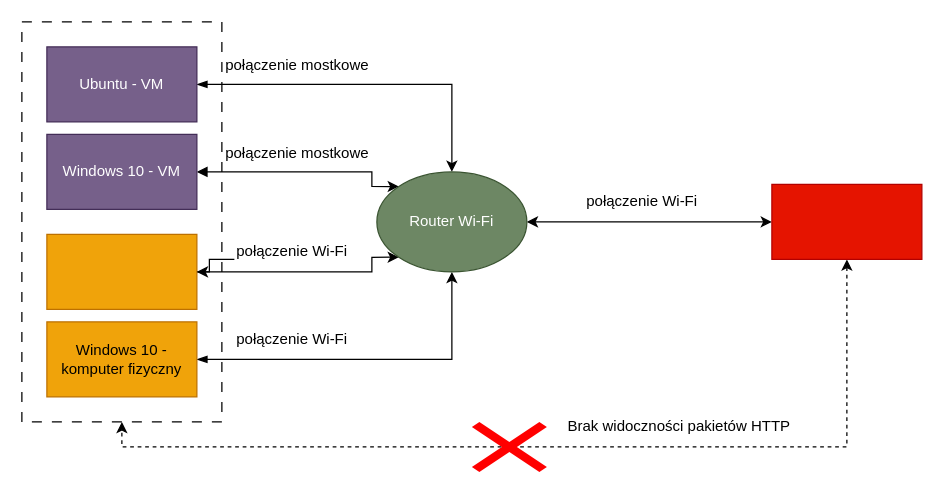
Image size: 944x494. Some labels were removed from this diagram. The centre of each missing label's shape, as x and y in pixels:
"Kali Linux (atakujący)" goes at (x=846, y=221).
"Ubuntu - komputer fizyczny" goes at (x=121, y=271).
